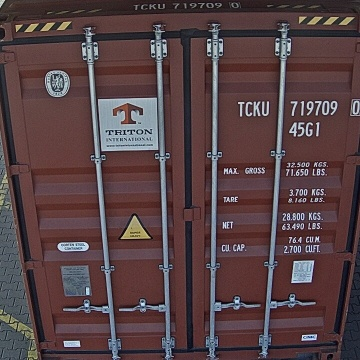serial_id: (238, 100, 360, 116)
